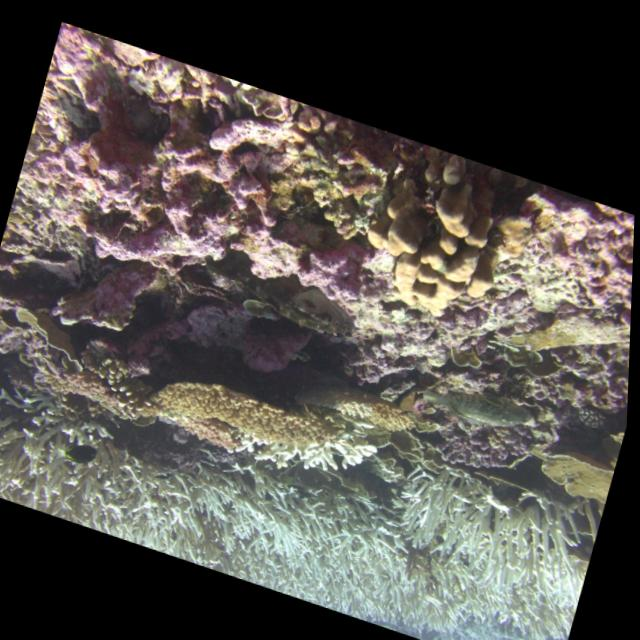Groupers: (195, 236, 366, 343), (418, 373, 535, 443)
